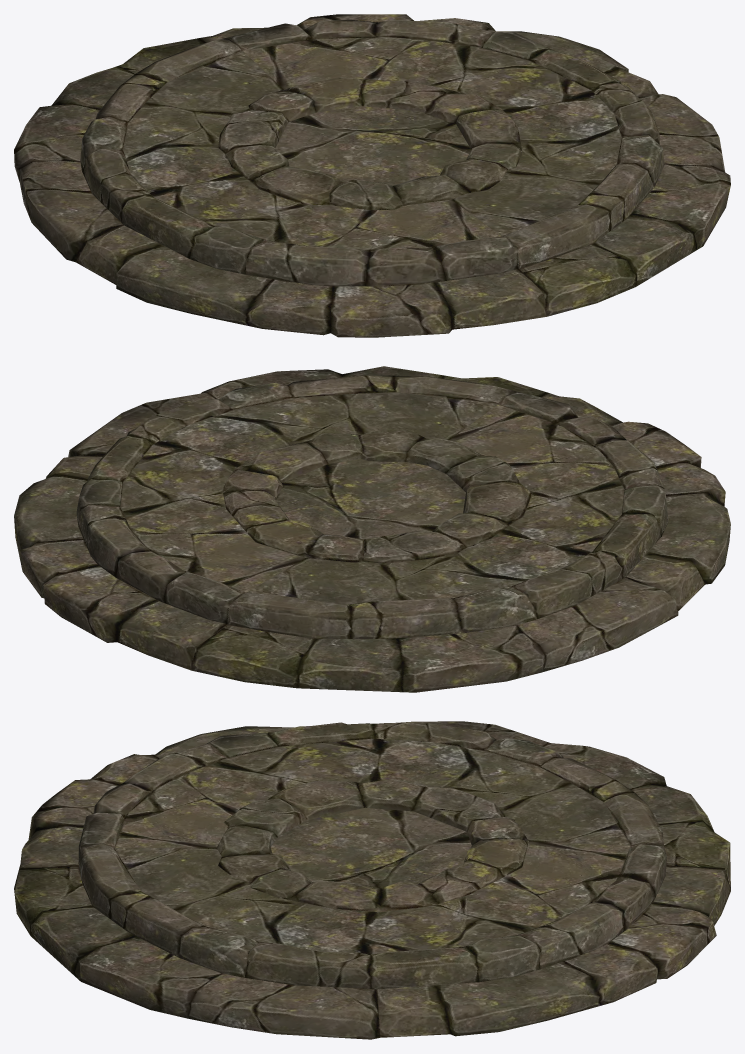
The picture shows the model from 3 angles, top to bottom: view 1: azimuth 30°, elevation 25°; view 2: azimuth 150°, elevation 25°; view 3: azimuth 270°, elevation 25°; orthographic projection.
Visible parts, largest first — view 1: default; view 2: default; view 3: default.
Part boxes in pixels (x1,y1,x2,y2): default: (14, 14, 730, 337); default: (14, 366, 730, 692); default: (14, 721, 730, 1039).
Size of the model in its own units: 3.05 by 0.2292 by 3.06.
1 material, 1 textured.
